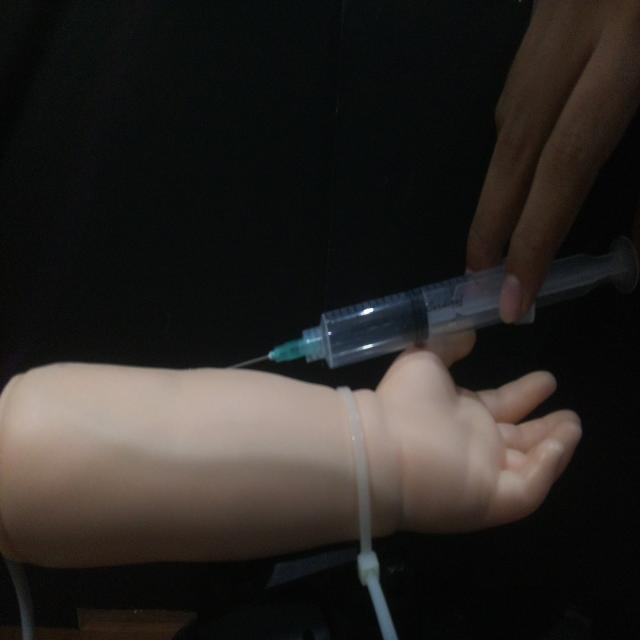15deg: (225, 233, 637, 374)
